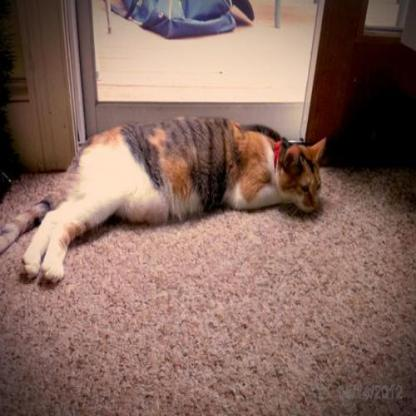Target: (5, 113, 328, 283)
